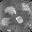people: (4, 6, 17, 16), (1, 17, 11, 26), (15, 16, 24, 24)
